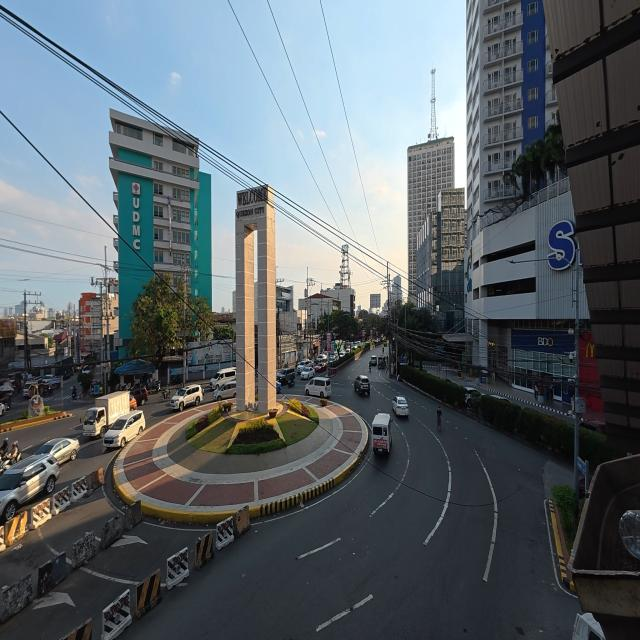car: (0, 456, 59, 522), (103, 411, 145, 447), (35, 438, 79, 463), (170, 385, 203, 411), (214, 381, 236, 401), (276, 367, 295, 385), (130, 387, 148, 406), (581, 420, 605, 434), (393, 396, 409, 416), (355, 375, 370, 396), (465, 387, 481, 405), (297, 359, 312, 373), (23, 382, 37, 397), (38, 382, 53, 395), (301, 366, 314, 380), (490, 394, 510, 403), (0, 394, 11, 409), (130, 393, 137, 411), (315, 362, 326, 372), (42, 375, 54, 383), (369, 355, 377, 366), (0, 403, 6, 416), (276, 379, 281, 393), (319, 354, 327, 362), (82, 367, 91, 374), (330, 354, 335, 364), (340, 350, 345, 358), (345, 347, 351, 353)
motorcycle: (0, 451, 21, 475), (148, 381, 160, 393), (161, 388, 170, 399), (72, 388, 77, 400), (288, 378, 294, 387), (369, 363, 371, 372)
trucks: (84, 391, 129, 437)
vans: (372, 414, 391, 453), (210, 368, 236, 390), (305, 377, 331, 398)
